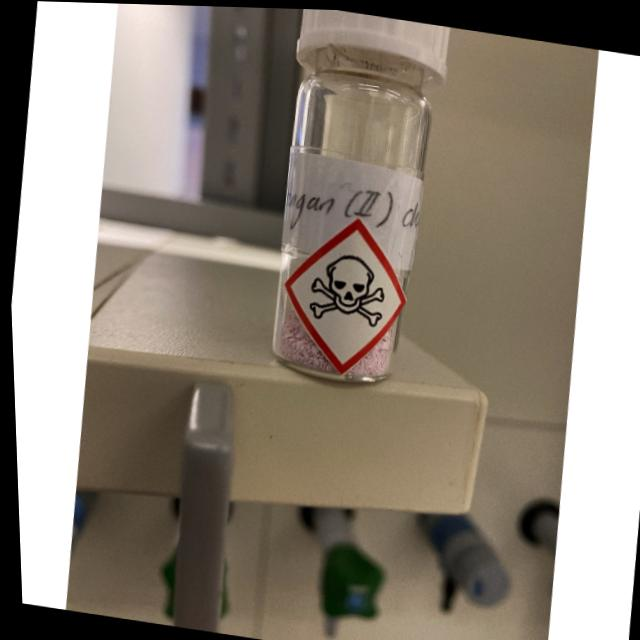acute toxicity: (269, 203, 416, 381)
